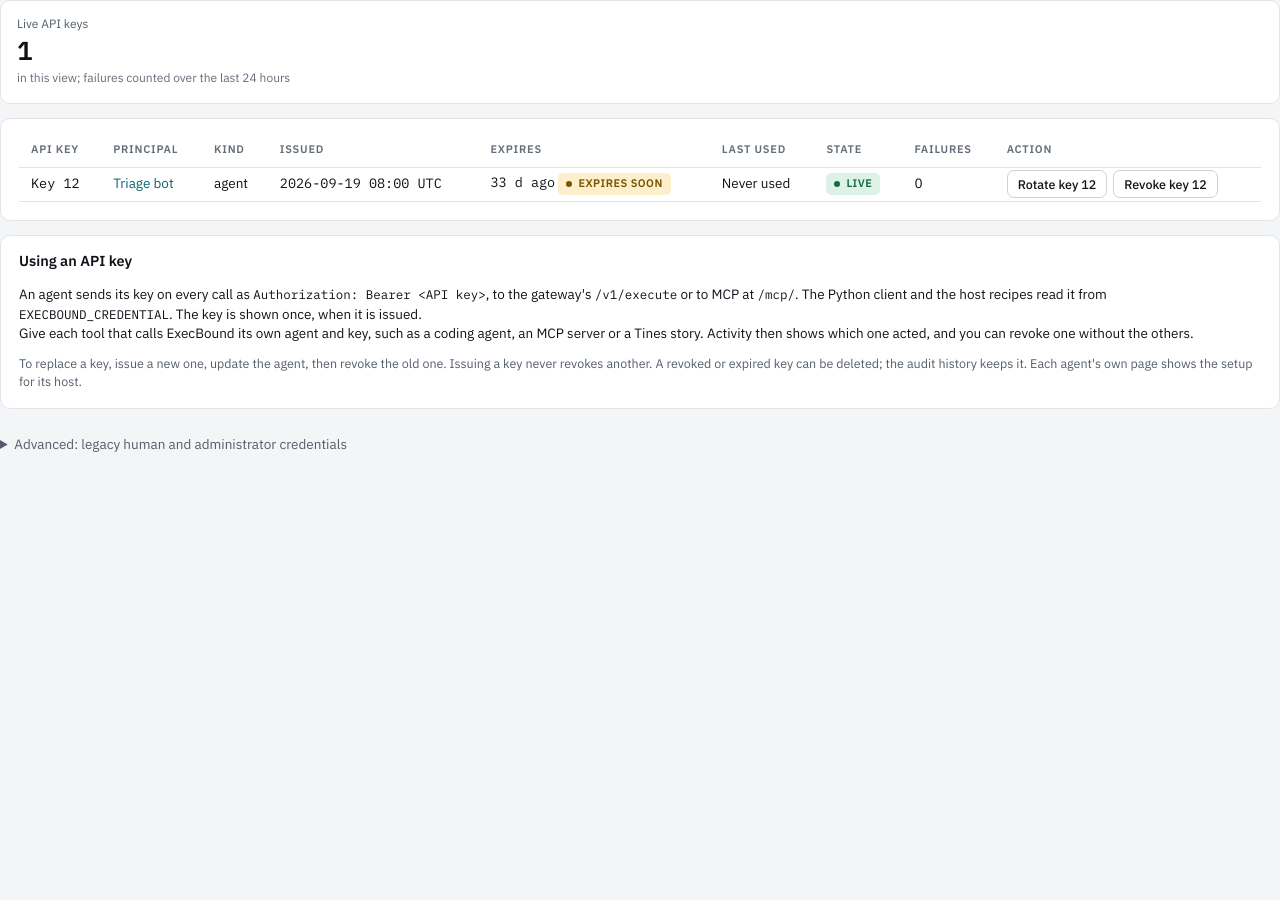
Test: the credentials list › leads with agent credentials and keeps legacy human access in advanced details
The width and height of the screenshot is (1280, 900).
Check: the row that starts with "Key 12" is shown, box top-left (31, 174), bottom-right (80, 192)
Check: the row that starts with "Key 12" does not show "66666666", box top-left (19, 168), bottom-right (1261, 202)
Click the heading "Advanced: legacy human and administrator credentials" at (181, 444), box top-left (14, 435), bottom-right (347, 453)
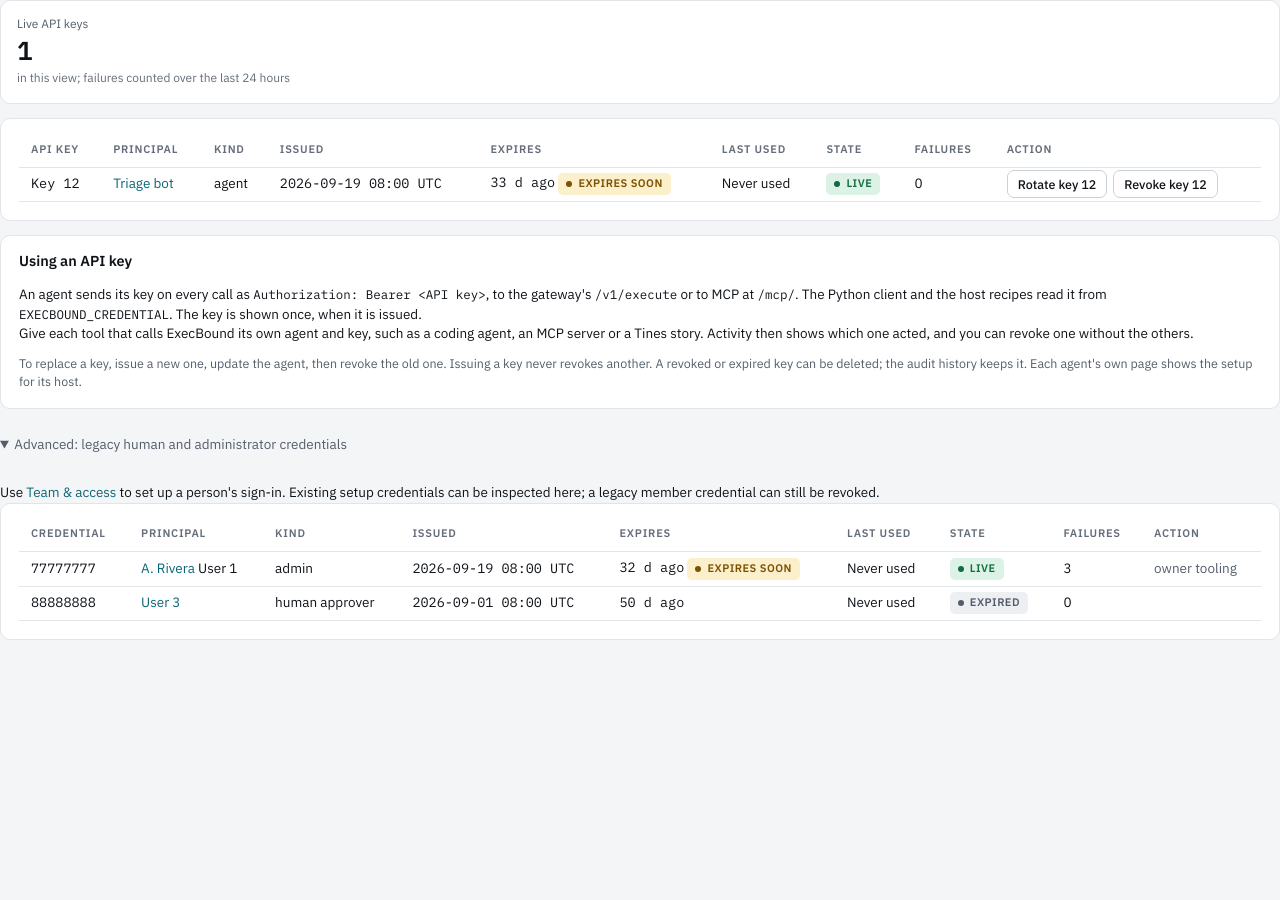
Check: the table named "Legacy human" does not show "33333333", box top-left (19, 518), bottom-right (1261, 620)
Check: the text "owner tooling" is shown, box top-left (1154, 559), bottom-right (1237, 577)
Check: the row that starts with "A. Rivera" shows "A. Rivera User 1", box top-left (19, 552), bottom-right (1261, 586)
Click the button "Revoke key 12" at (1166, 184), box top-left (1113, 170), bottom-right (1218, 198)
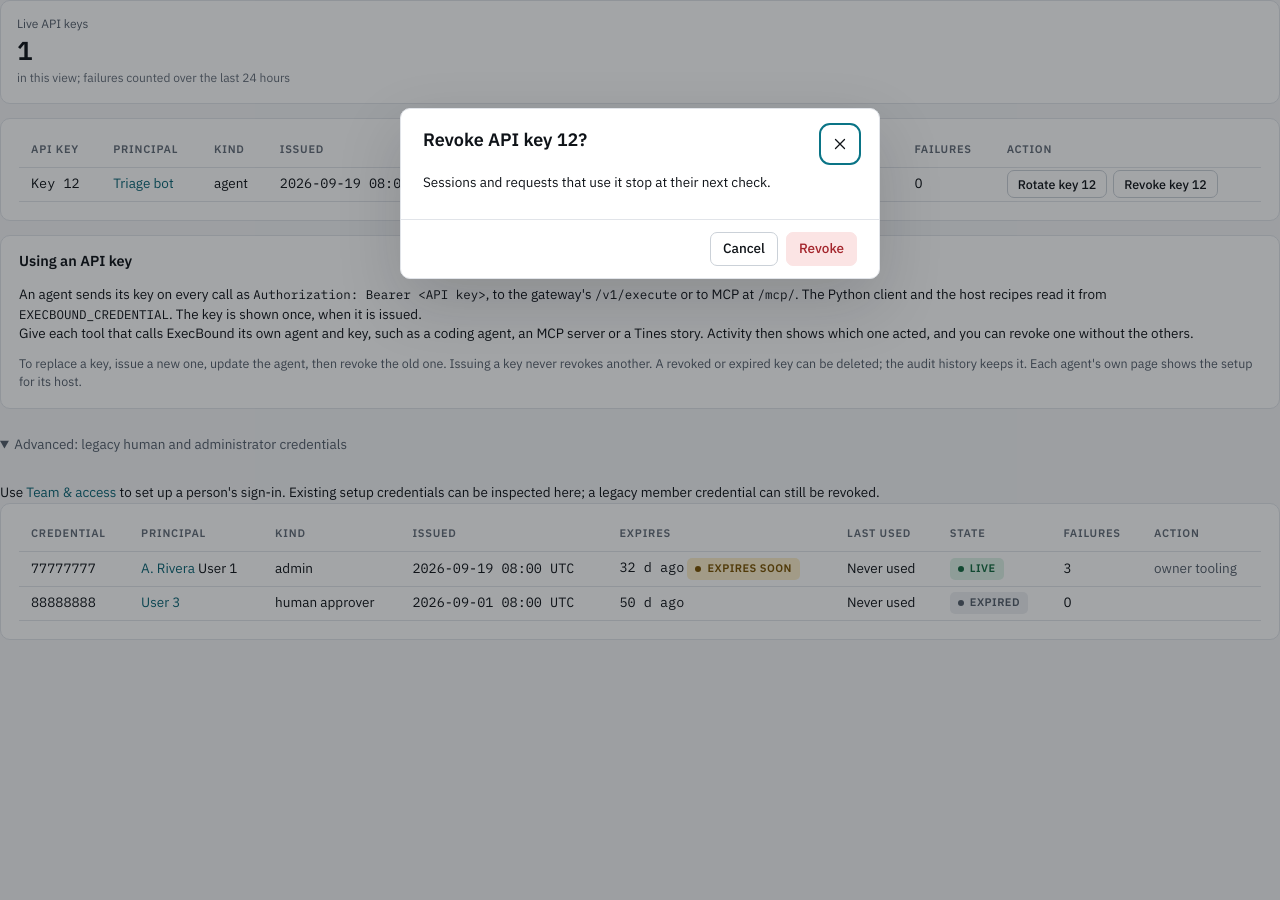
Check: the dialog "Revoke API key 12?" is shown, box top-left (400, 108), bottom-right (880, 279)
